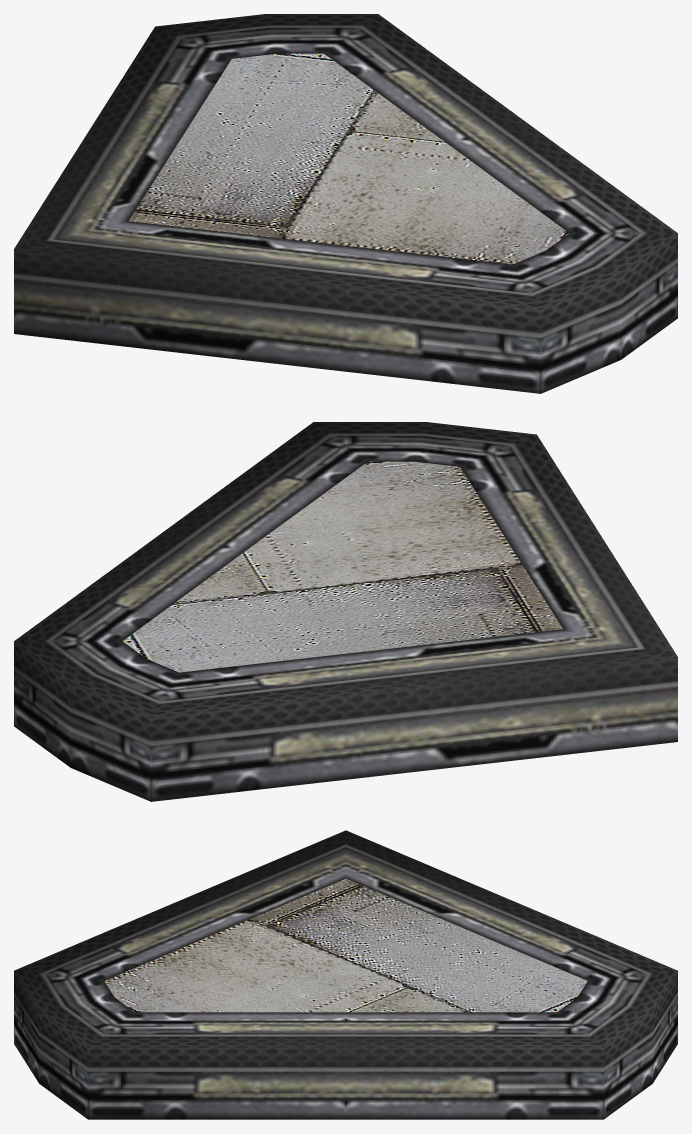
The model's file is PatchWall_B.fbx.
3 renders of one model, top to bottom at view 1: azimuth 30°, elevation 25°; view 2: azimuth 150°, elevation 25°; view 3: azimuth 270°, elevation 25°, orthographic. The views are drawn at different scales.
Visible parts, largest first — view 1: PatchWall_B; view 2: PatchWall_B; view 3: PatchWall_B.
Boxes of the visible parts, x1=… form: PatchWall_B: x1=14, y1=14, x2=677, y2=393; PatchWall_B: x1=14, y1=422, x2=677, y2=801; PatchWall_B: x1=14, y1=830, x2=677, y2=1119.
Bounding box in the file's own units: 124 × 19.69 × 162.
